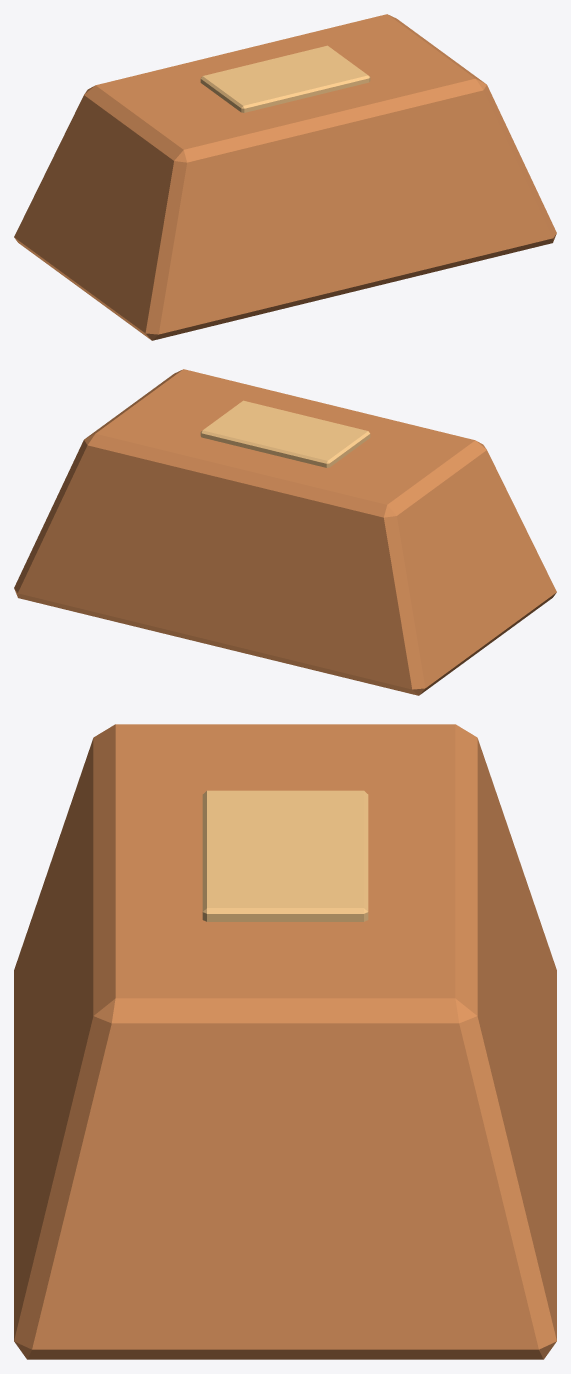
Rendered from FTF_Product_CopperIngot_Drop.glb.
3 renders of one model, top to bottom at view 1: azimuth 30°, elevation 25°; view 2: azimuth 150°, elevation 25°; view 3: azimuth 270°, elevation 25°, orthographic. The views are drawn at different scales.
Parts seen in each view (by area): view 1: CopperIngot_Mesh; view 2: CopperIngot_Mesh; view 3: CopperIngot_Mesh.
Boxes of the visible parts, <box> form: CopperIngot_Mesh: <box>14,14,556,340</box>; CopperIngot_Mesh: <box>14,369,556,695</box>; CopperIngot_Mesh: <box>14,724,556,1359</box>.
Size of the model in its own units: 0.4146 by 0.161 by 0.246.
